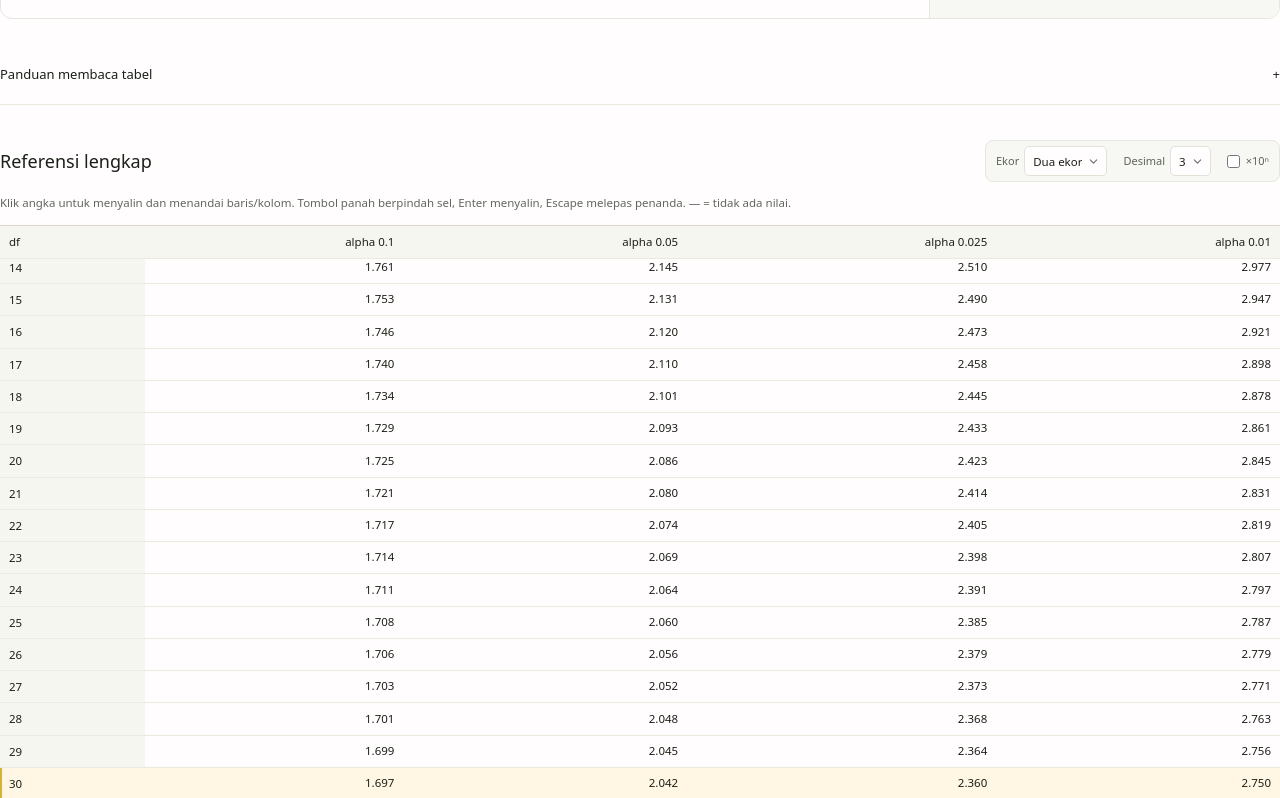
preferensi desimal dan favorit tersimpan
This screenshot has width=1280, height=798.
Later steps or results of the test are not shown.
(page scrolled)
Click the dropdown named "Jumlah desimal": (1190, 162) [1170, 146, 1211, 176]
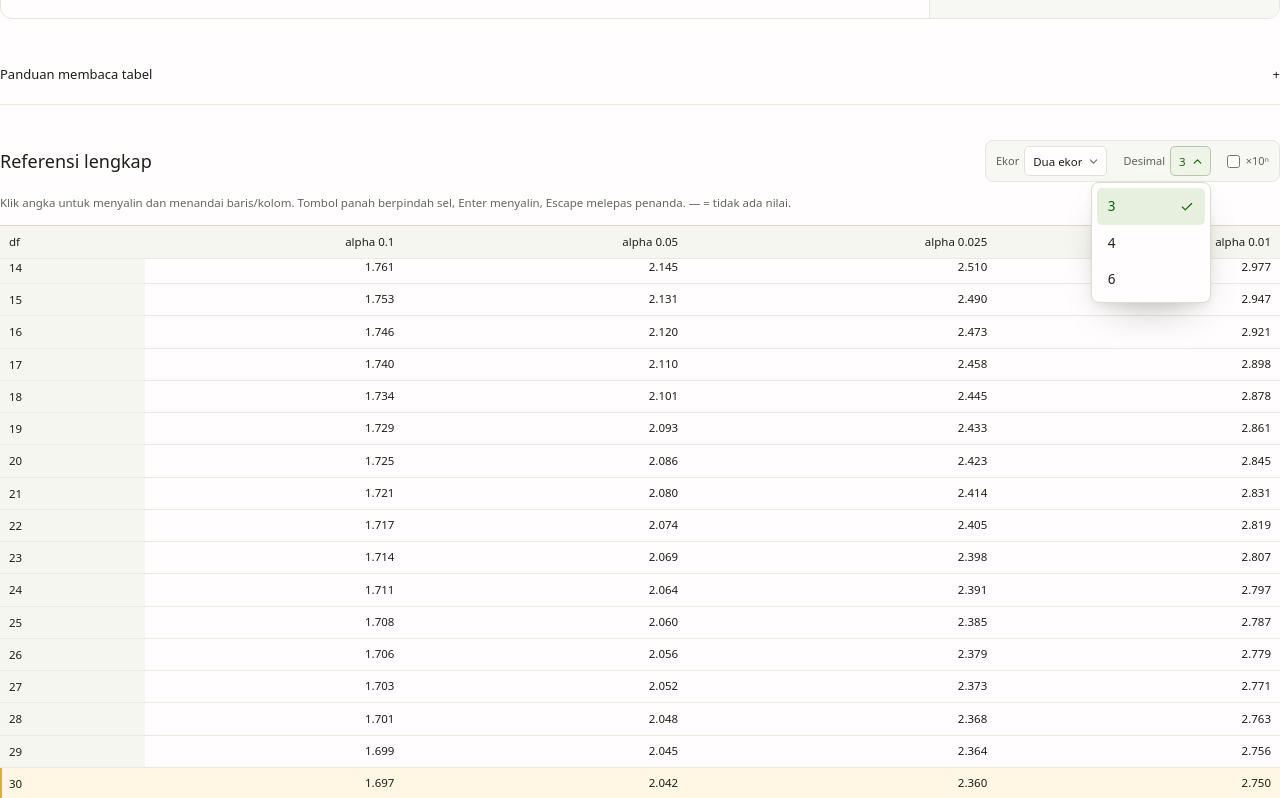
Click the option "6": (1112, 279) [1108, 270, 1115, 288]
(page scrolled)
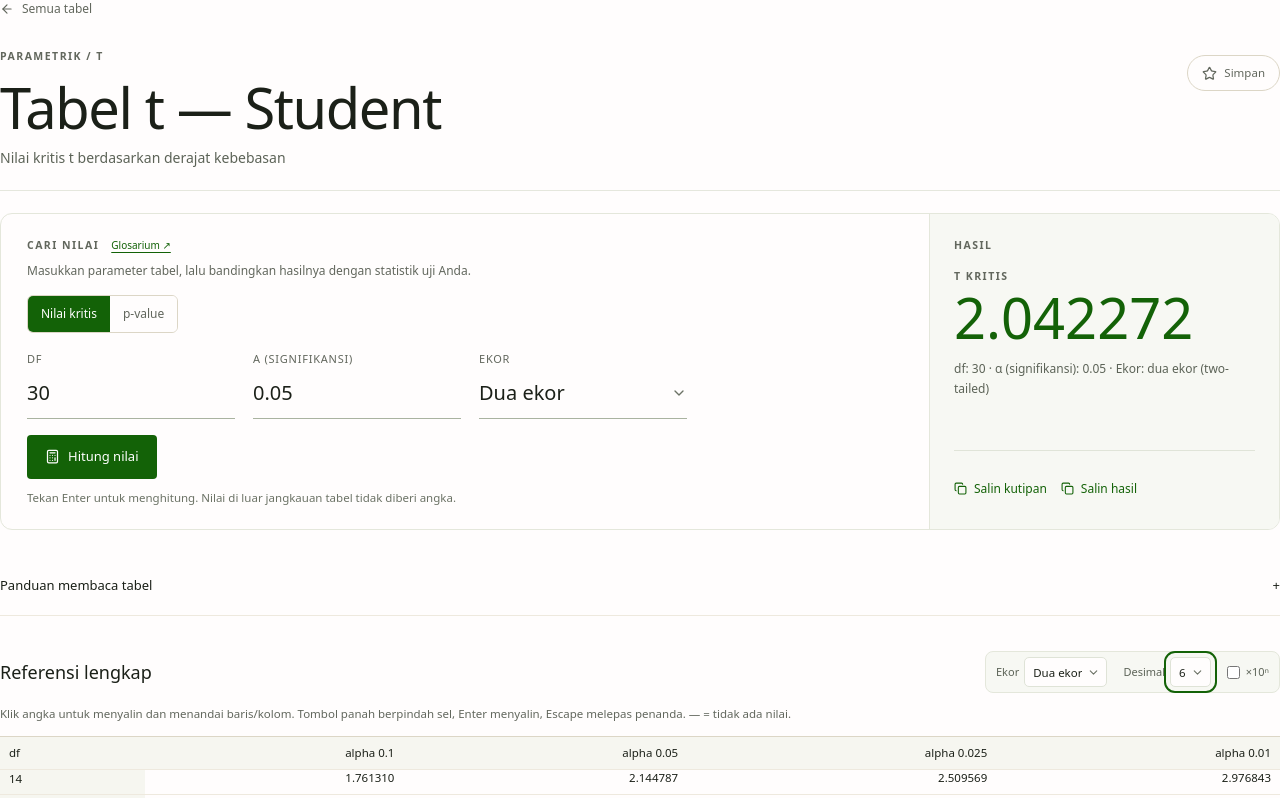
Expected: the text "2.042272" is shown, [954, 285, 1193, 349]
